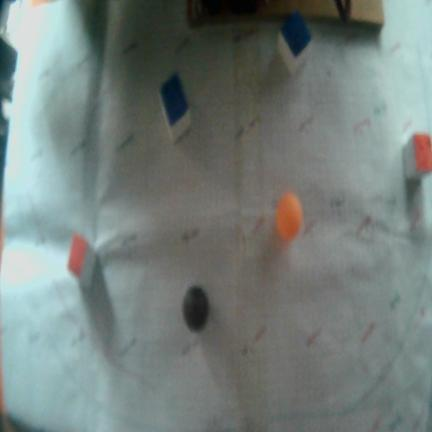circle_blue: (182, 286, 210, 333)
circle_orange: (275, 193, 303, 242)
rectangle_blue: (159, 76, 186, 127)
rectangle_orange: (68, 234, 87, 279)
square_blue: (281, 7, 310, 57)
square_orange: (413, 136, 432, 172)
